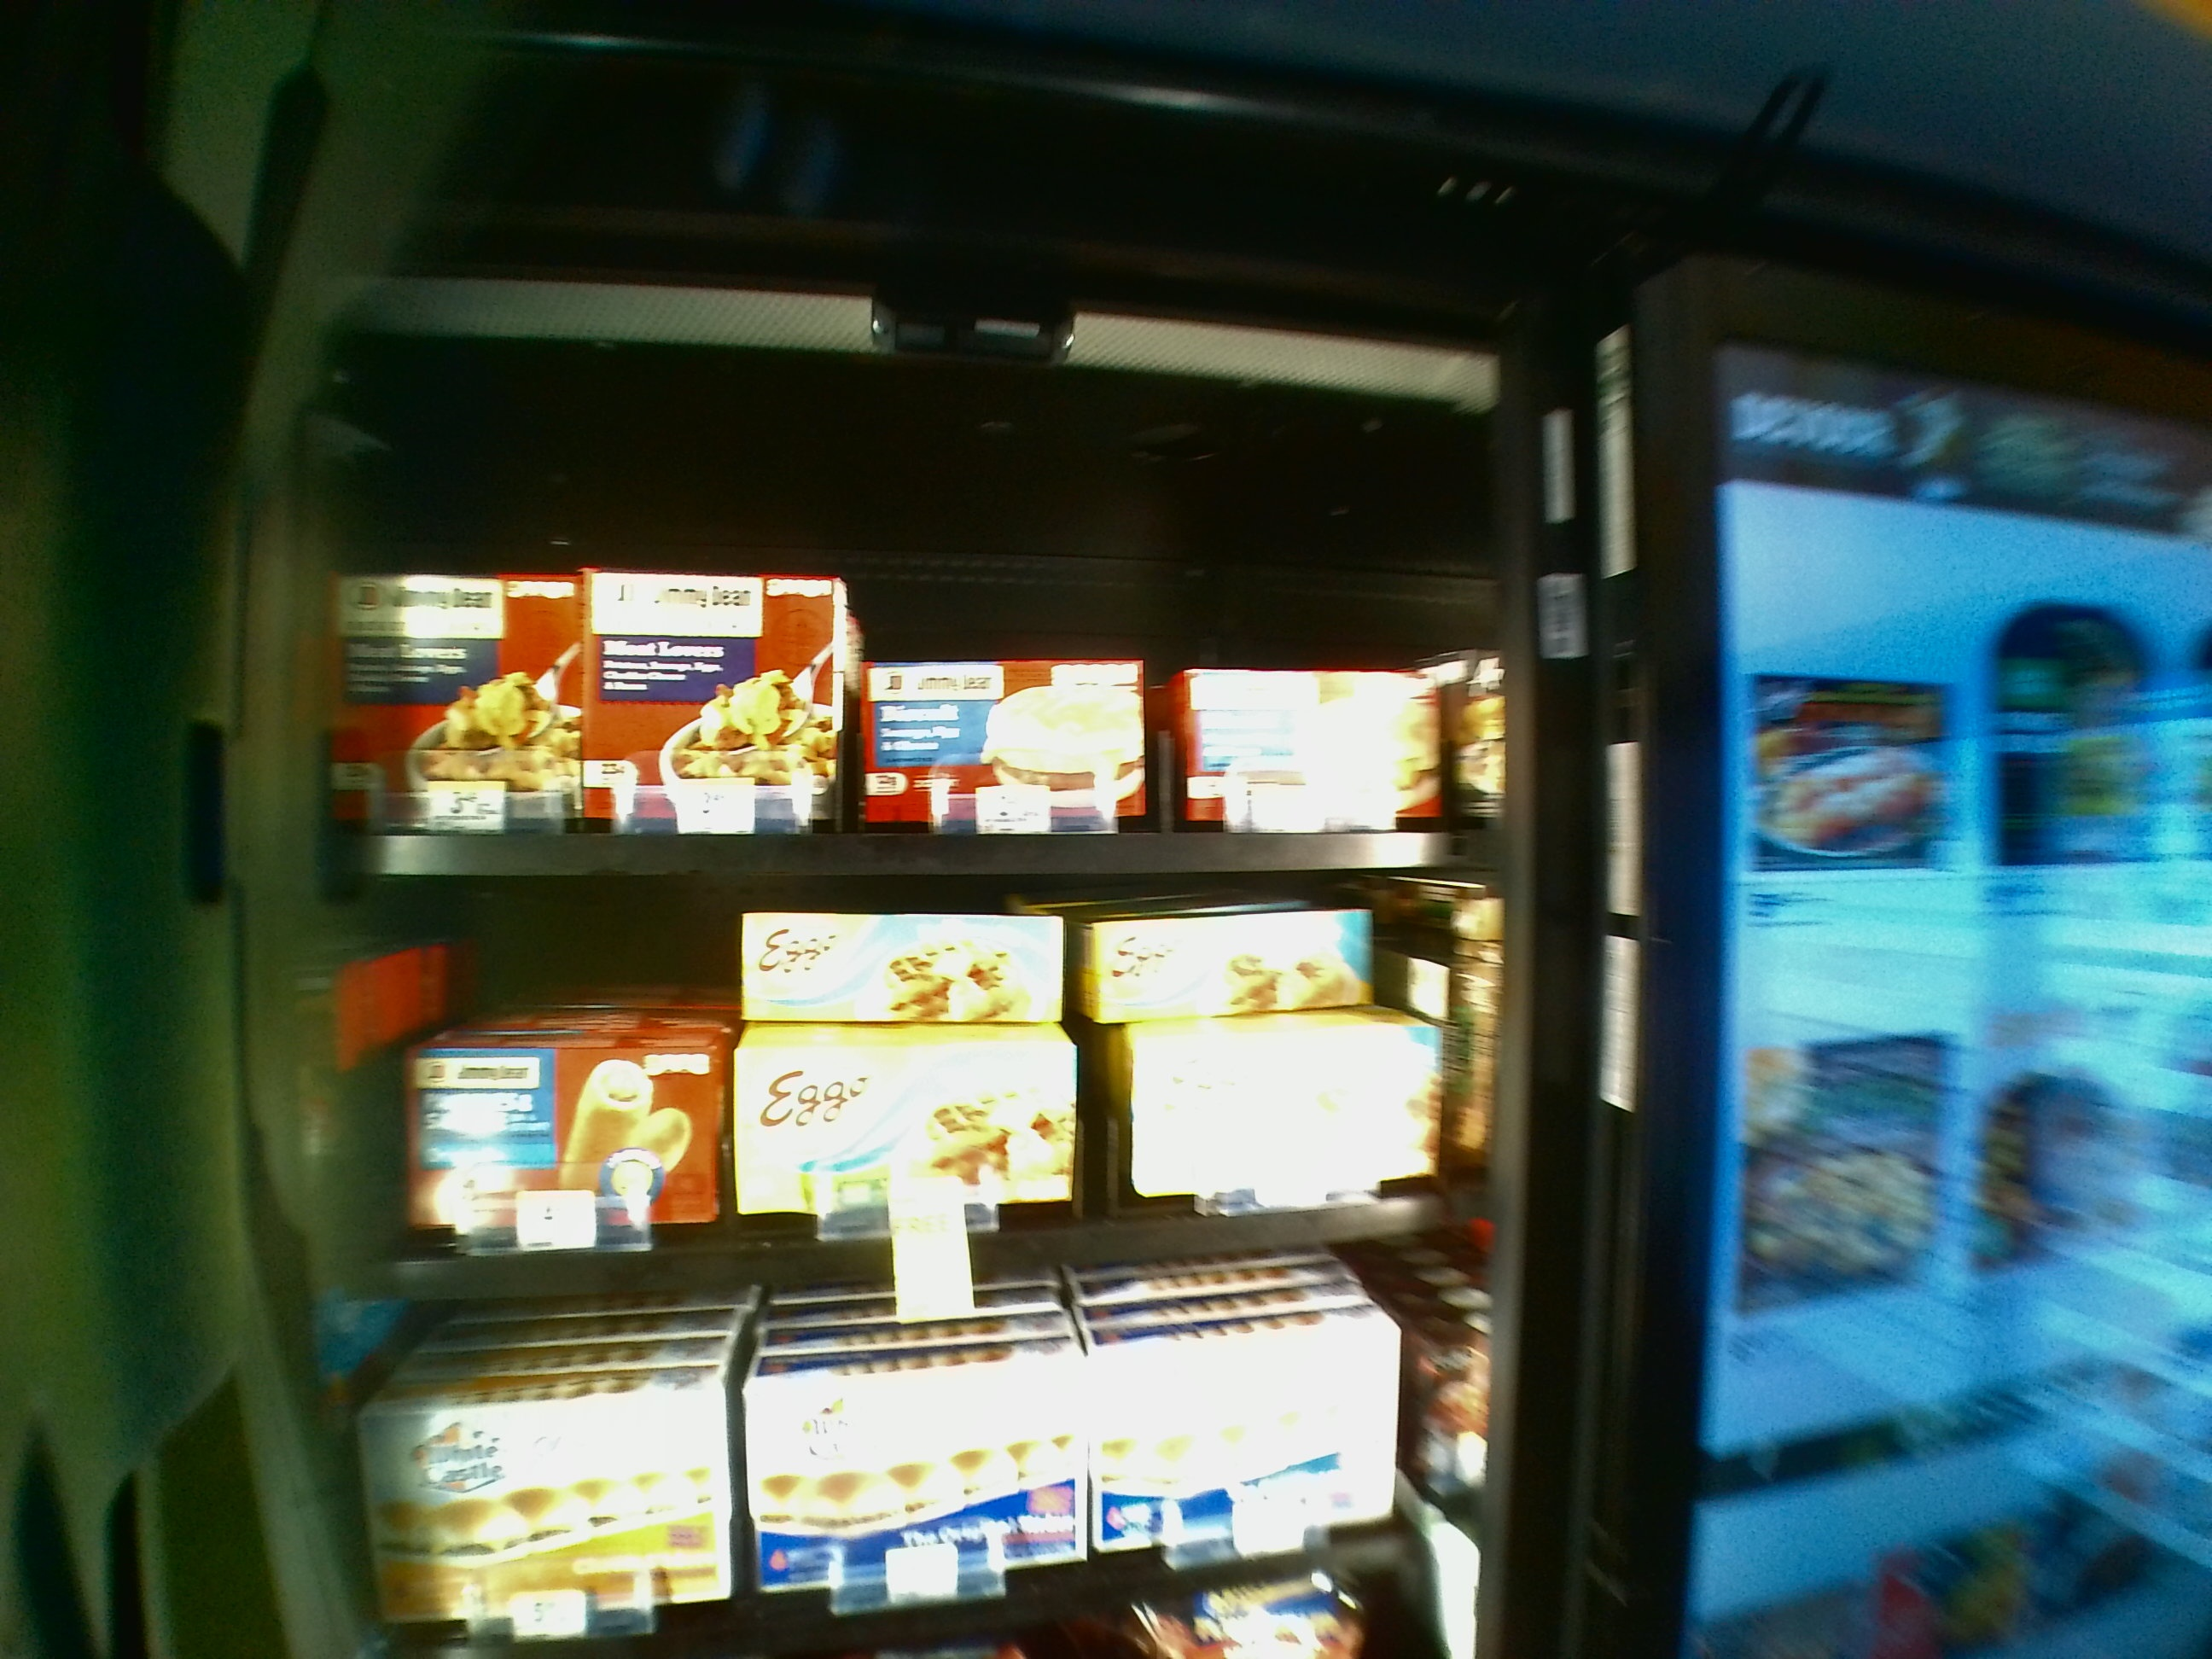shelf: (307, 410, 1493, 873), (307, 887, 1503, 1305)
